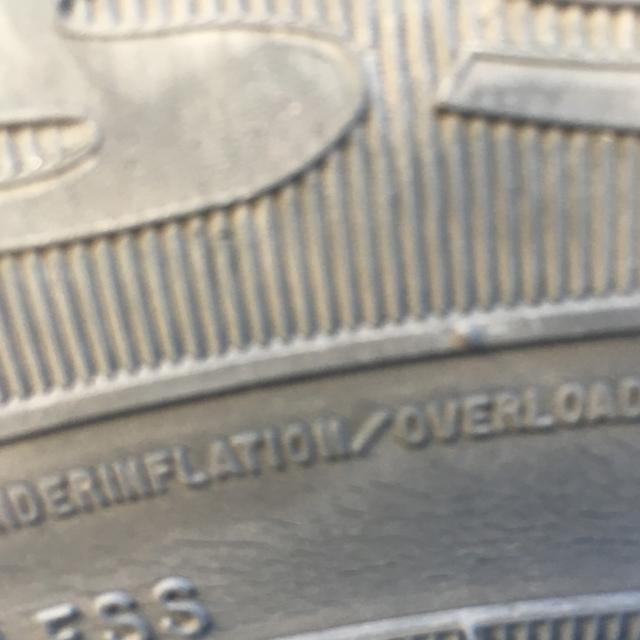Non-defective: (0, 0, 636, 383)
